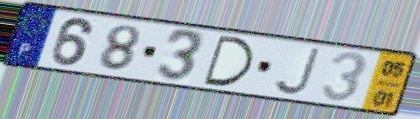3: (154, 27, 205, 84), (321, 51, 371, 105)
6: (49, 16, 97, 67)
8: (98, 23, 144, 73)
D: (202, 33, 256, 88)
J: (272, 46, 323, 97)
